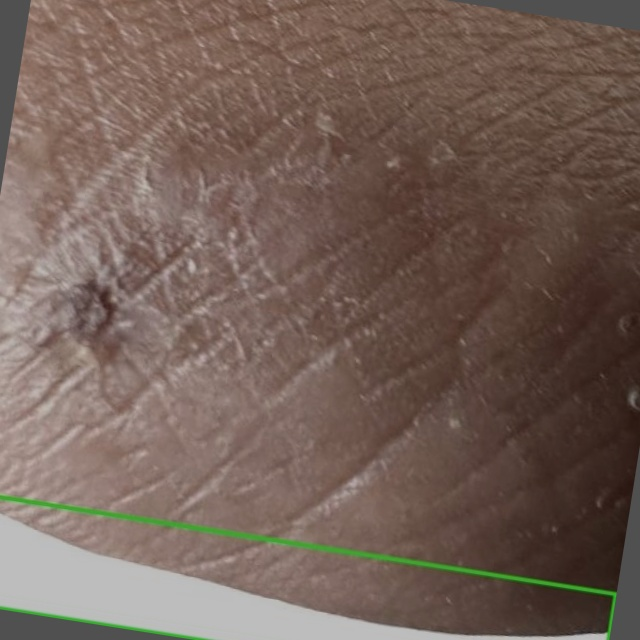Scabies: (0, 497, 615, 639)
